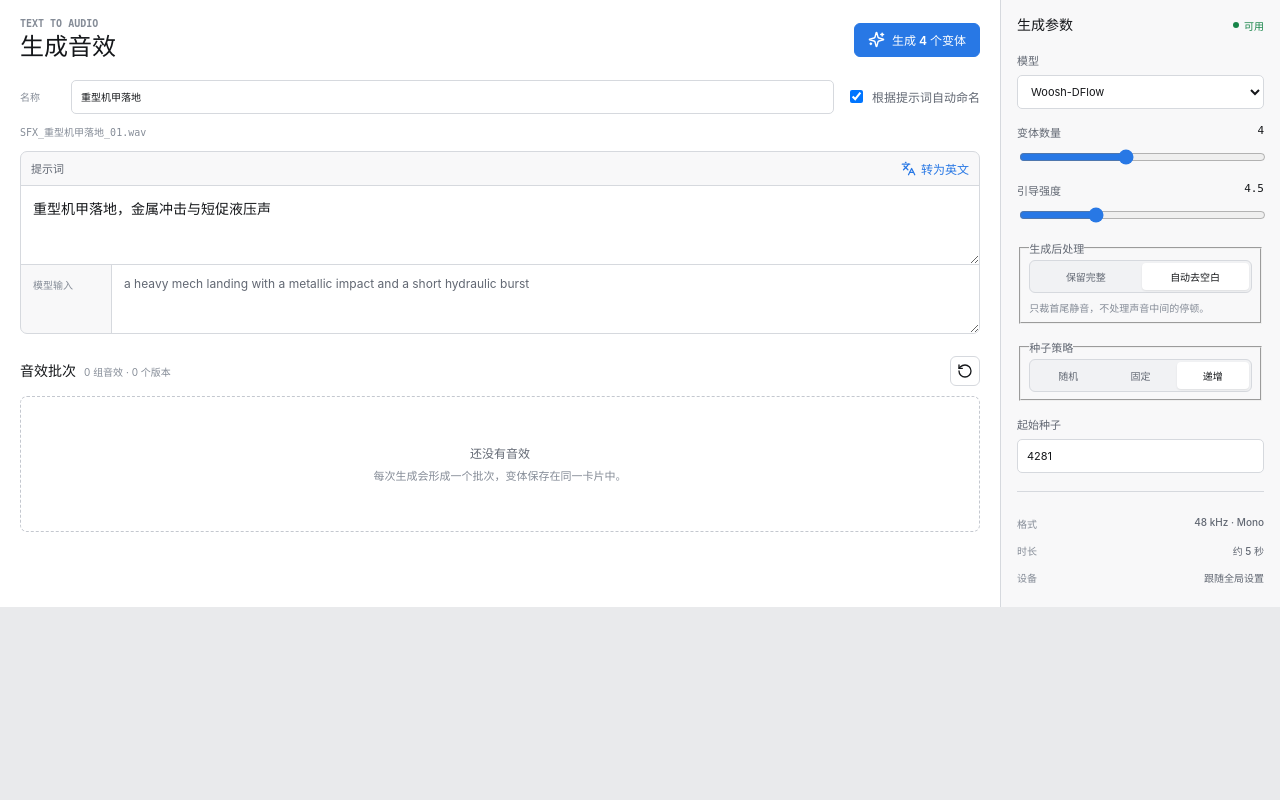
Scenario: GenerateView › uses bundled multilingual translation on a fresh machine without downloading OPUS
This screenshot has width=1280, height=800.
Click the button "转为英文" at (935, 168), box [901,156,969,181]
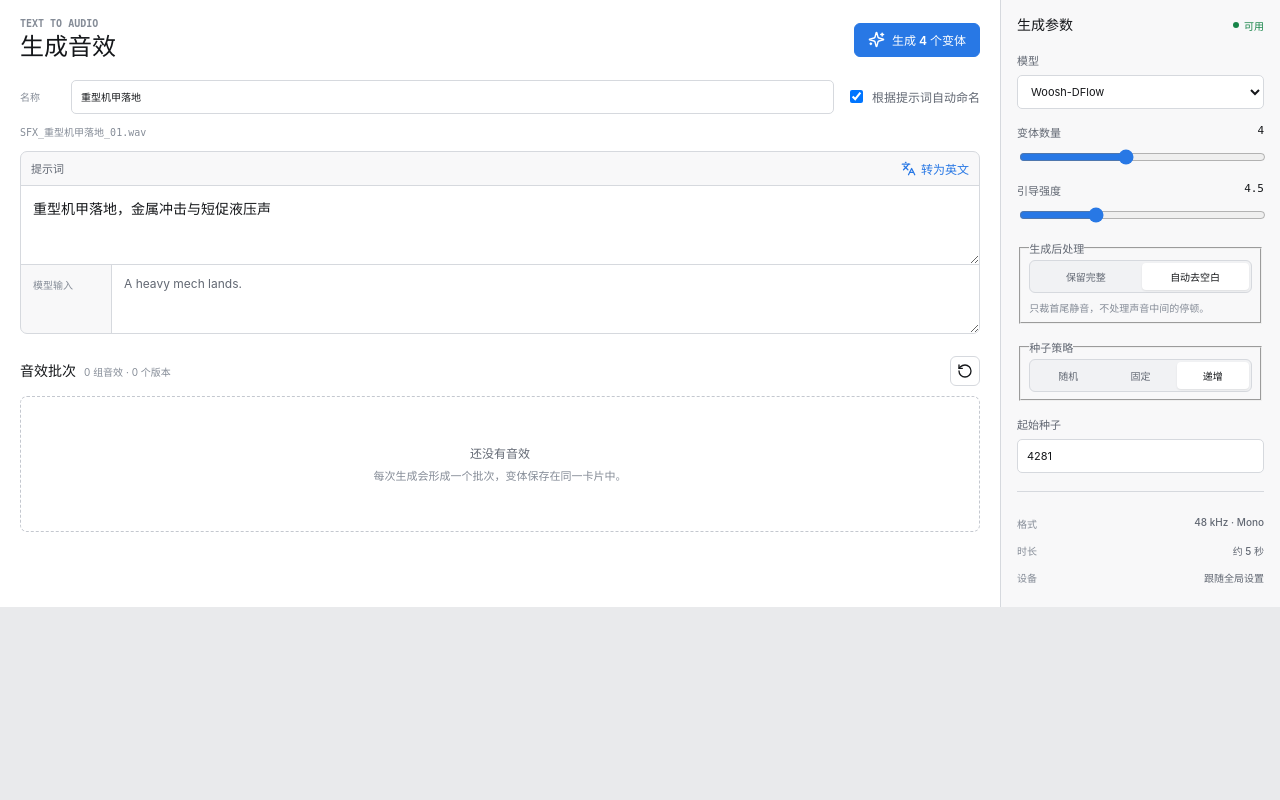
expect the text box named "英文模型提示词" holds "A heavy mech lands.": met, box [111,265,979,333]
